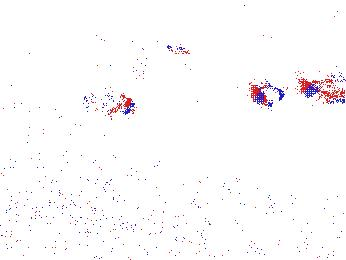red belly glassfish: (87, 89, 142, 119), (165, 38, 216, 54)
redtail glassfish: (299, 72, 346, 108), (248, 78, 287, 110)
